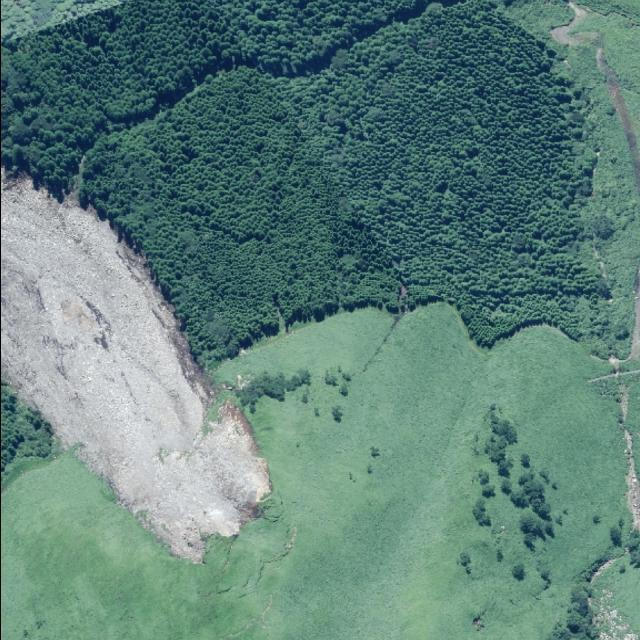landslide: (0, 176, 269, 562)
